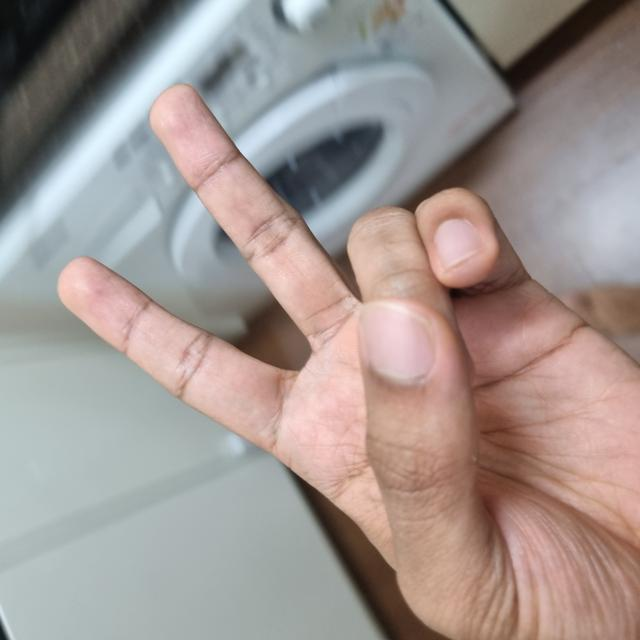Scissors: (1, 58, 555, 639)
